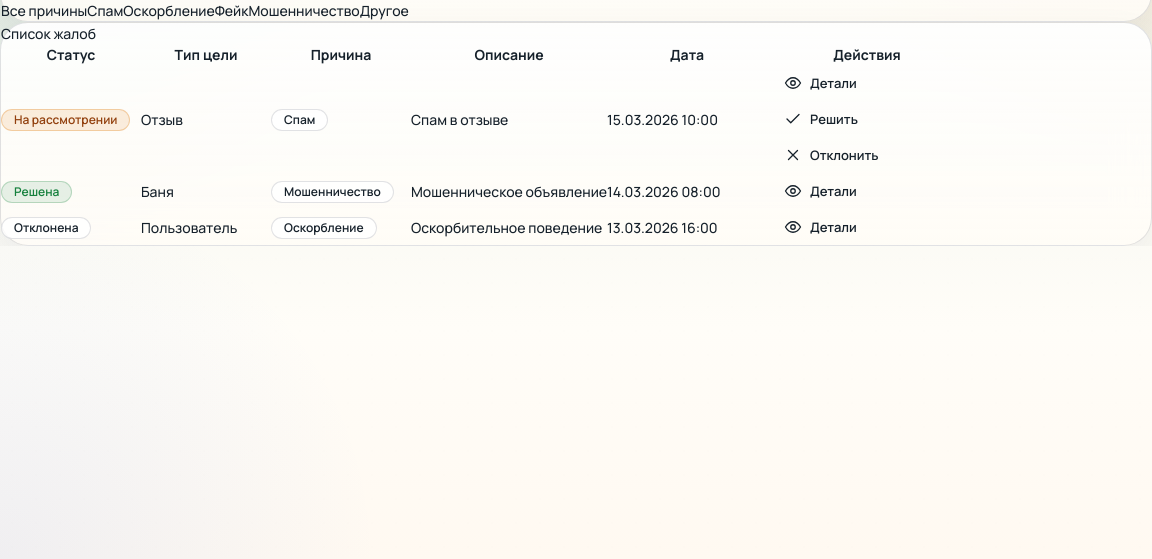
Test case: ComplaintManagement › shows resolution info in drawer for resolved complaints
Click the link "Мошенническое объявление" at (509, 191), box [411, 182, 607, 201]
(page scrolled)
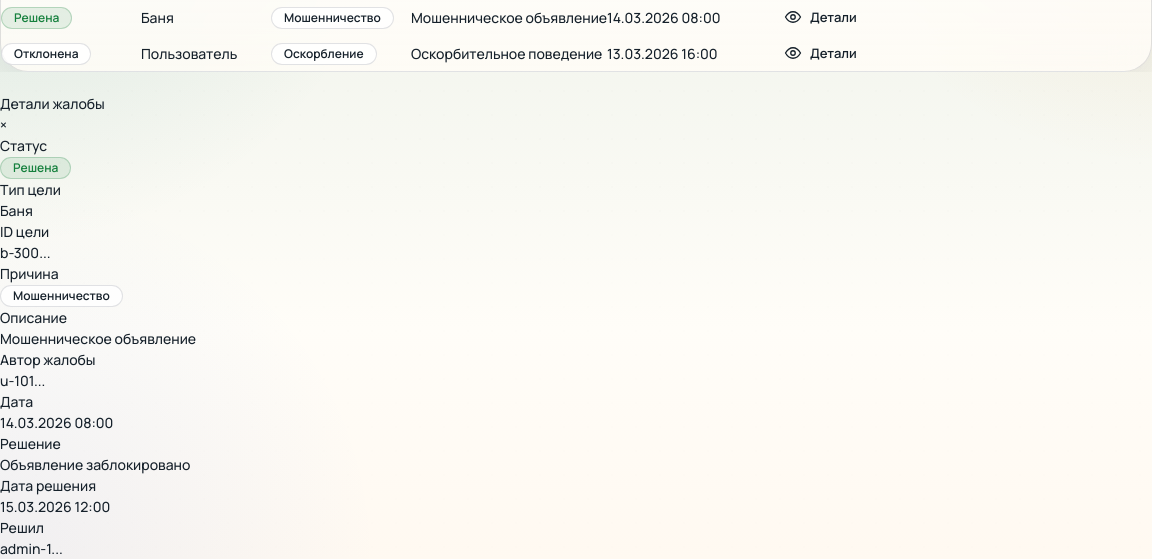
Expected: the text "Детали жалобы" is shown, [0, 94, 105, 113]
Expected: the text "Объявление заблокировано" is shown, [0, 455, 190, 474]
